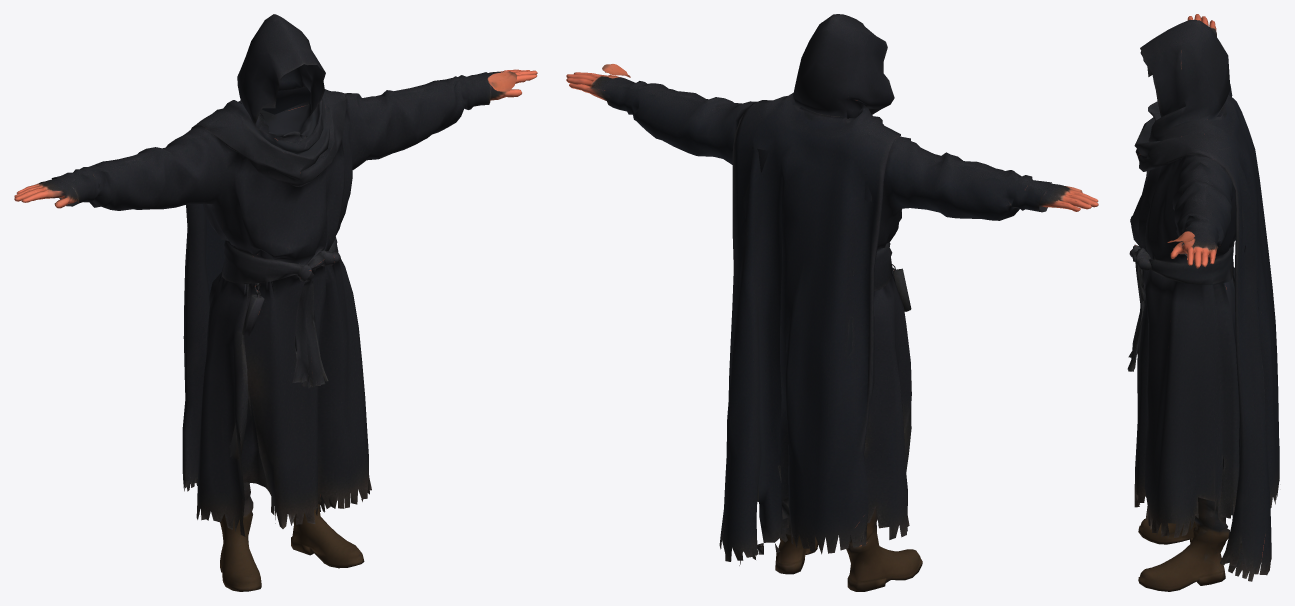
Rendered from kabus_golgesi.glb.
3 renders of one model, left to right at view 1: azimuth 30°, elevation 25°; view 2: azimuth 150°, elevation 25°; view 3: azimuth 270°, elevation 25°, orthographic. The views are drawn at different scales.
Bounding box in the file's own units: 0.9517 × 0.9512 × 0.2446.
1 material, 1 textured.
